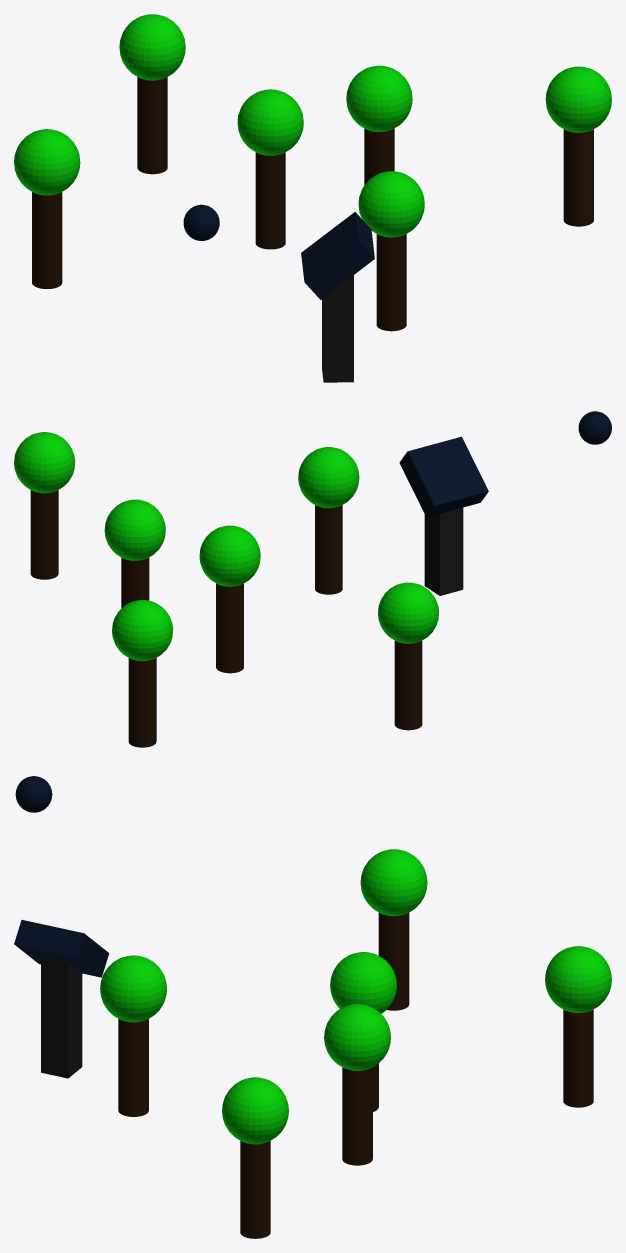
The model's file is exercise20009.obj.
3 views of the same model, one above another, from view 1: azimuth 30°, elevation 25°; view 2: azimuth 150°, elevation 25°; view 3: azimuth 270°, elevation 25° (orthographic). The views are drawn at different scales.
Parts seen in each view (by area): view 1: Cube.001, Sphere.002, Sphere, Sphere.005, Sphere.006, Sphere.003, Sphere.004, Cube, Cylinder.002, Cylinder.003, Cylinder.005, Cylinder.004 (+4 smaller); view 2: Cube.001, Cube, Sphere.002, Sphere.003, Sphere, Sphere.004, Sphere.005, Sphere.006, Cylinder.006, Cylinder.005, Cylinder.003, Cylinder.002 (+4 smaller); view 3: Cube, Sphere.003, Sphere.006, Sphere, Sphere.004, Sphere.005, Sphere.002, Cube.001, Cylinder.005, Cylinder.003, Cylinder.004, Cylinder (+3 smaller).
Boxes of the visible parts, left/top/right/bottom form: Cube.001: left=301, top=212, right=374, bottom=299; Sphere.002: left=237, top=89, right=303, bottom=155; Sphere: left=346, top=65, right=412, bottom=131; Sphere.005: left=119, top=14, right=185, bottom=80; Sphere.006: left=14, top=129, right=80, bottom=195; Sphere.003: left=545, top=66, right=611, bottom=132; Sphere.004: left=358, top=171, right=424, bottom=237; Cube: left=322, top=275, right=353, bottom=382; Cylinder.002: left=255, top=152, right=285, bottom=249; Cylinder.003: left=563, top=129, right=593, bottom=226; Cylinder.005: left=137, top=77, right=167, bottom=174; Cylinder.004: left=376, top=234, right=406, bottom=331; Cube.001: left=399, top=436, right=488, bottom=517; Cube: left=424, top=507, right=463, bottom=595; Sphere.002: left=199, top=525, right=260, bottom=586; Sphere.003: left=14, top=432, right=75, bottom=493; Sphere: left=104, top=499, right=165, bottom=560; Sphere.004: left=298, top=447, right=359, bottom=508; Sphere.005: left=112, top=600, right=172, bottom=661; Sphere.006: left=378, top=582, right=438, bottom=643; Cylinder.006: left=394, top=641, right=422, bottom=730; Cylinder.005: left=128, top=658, right=156, bottom=747; Cylinder.003: left=30, top=490, right=58, bottom=579; Cylinder.002: left=216, top=583, right=243, bottom=673; Cube: left=41, top=955, right=82, bottom=1078; Sphere.003: left=222, top=1077, right=288, bottom=1144; Sphere.006: left=360, top=849, right=427, bottom=916; Sphere: left=324, top=1004, right=390, bottom=1070; Sphere.004: left=100, top=955, right=166, bottom=1022; Sphere.005: left=545, top=946, right=611, bottom=1012; Sphere.002: left=330, top=952, right=396, bottom=1013; Cube.001: left=14, top=920, right=109, bottom=977; Cylinder.005: left=563, top=1009, right=593, bottom=1107; Cylinder.003: left=240, top=1141, right=270, bottom=1238; Cylinder.004: left=118, top=1019, right=148, bottom=1116; Cylinder: left=342, top=1067, right=372, bottom=1165.
Size of what is drawn, in the model's own units: 40.53 by 15.76 by 39.13.
